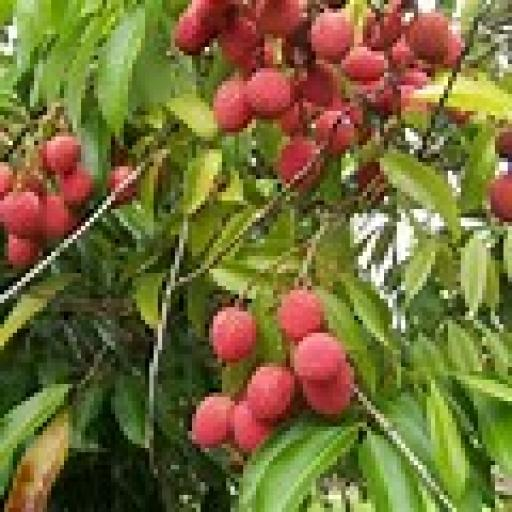lychee: (303, 363, 354, 418), (218, 13, 264, 72), (248, 363, 294, 422), (278, 286, 324, 341), (244, 69, 294, 119), (295, 333, 345, 383), (278, 137, 324, 191), (210, 308, 255, 362), (406, 13, 452, 63), (312, 9, 354, 63), (192, 393, 234, 447), (231, 402, 273, 452), (214, 77, 251, 132), (295, 64, 341, 106), (0, 192, 42, 238), (363, 9, 405, 51), (316, 111, 358, 153), (342, 47, 388, 85), (256, 0, 302, 38), (175, 9, 213, 55), (43, 133, 81, 174), (43, 192, 76, 238), (60, 167, 93, 209), (355, 163, 388, 204), (5, 235, 42, 268), (107, 167, 136, 204), (491, 171, 511, 221), (495, 128, 511, 162), (0, 163, 12, 196)
